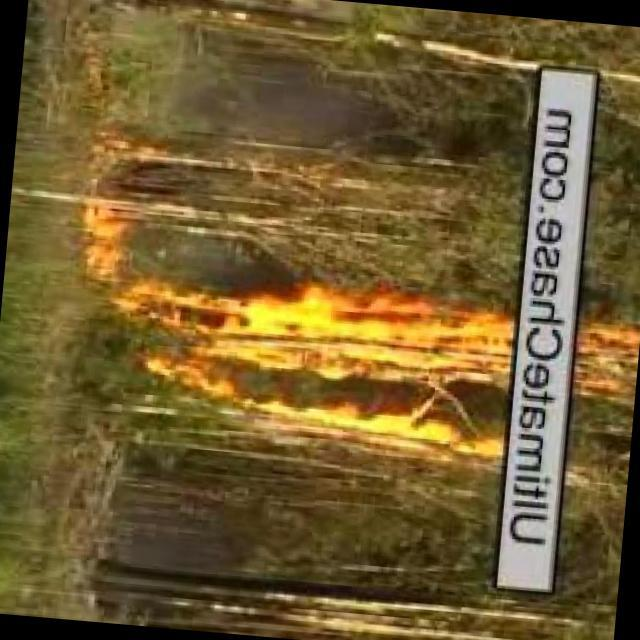Fire: (113, 256, 516, 473), (566, 318, 640, 405), (79, 202, 118, 284)
